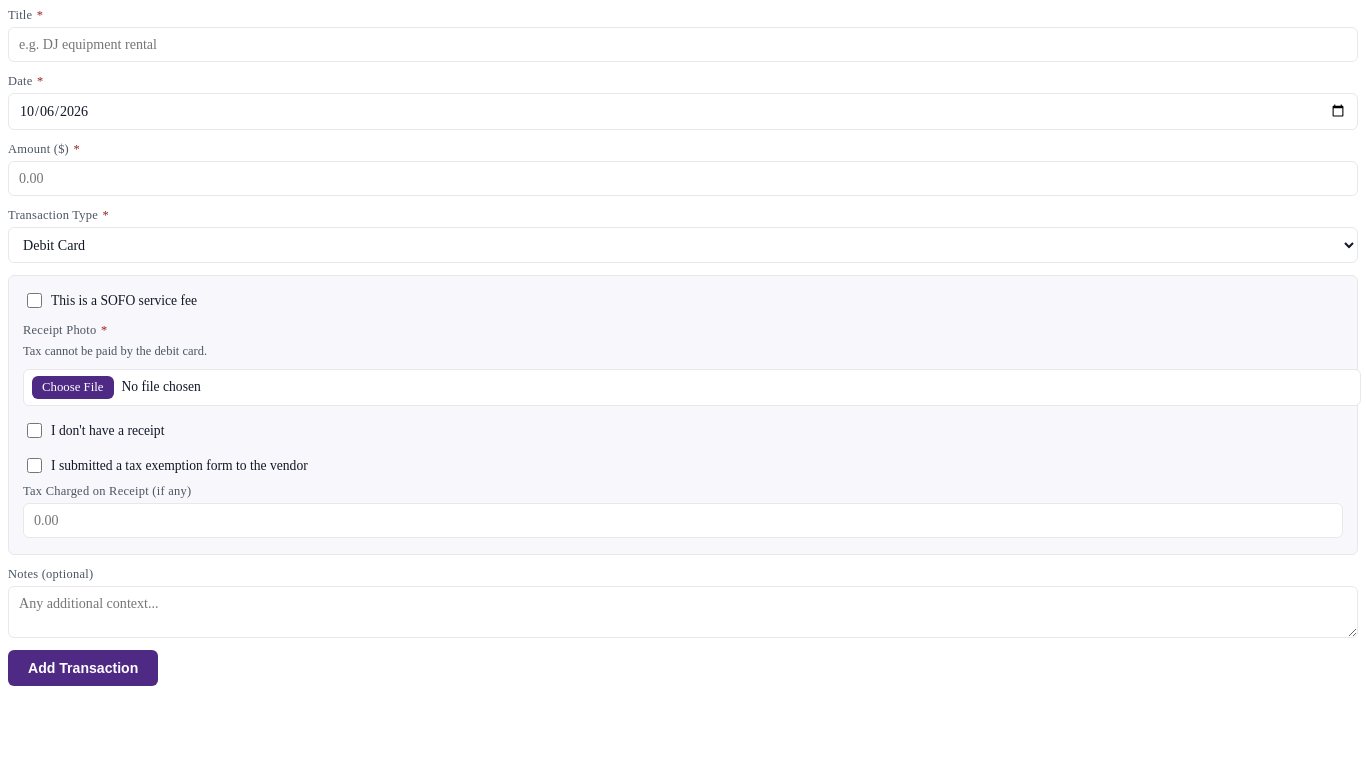
Scenario: AddTransactionForm › shows a validation error and does not submit when the title is missing
In the field labelled "Amount ($) *": (683, 178) [8,161,1358,196], type "10"
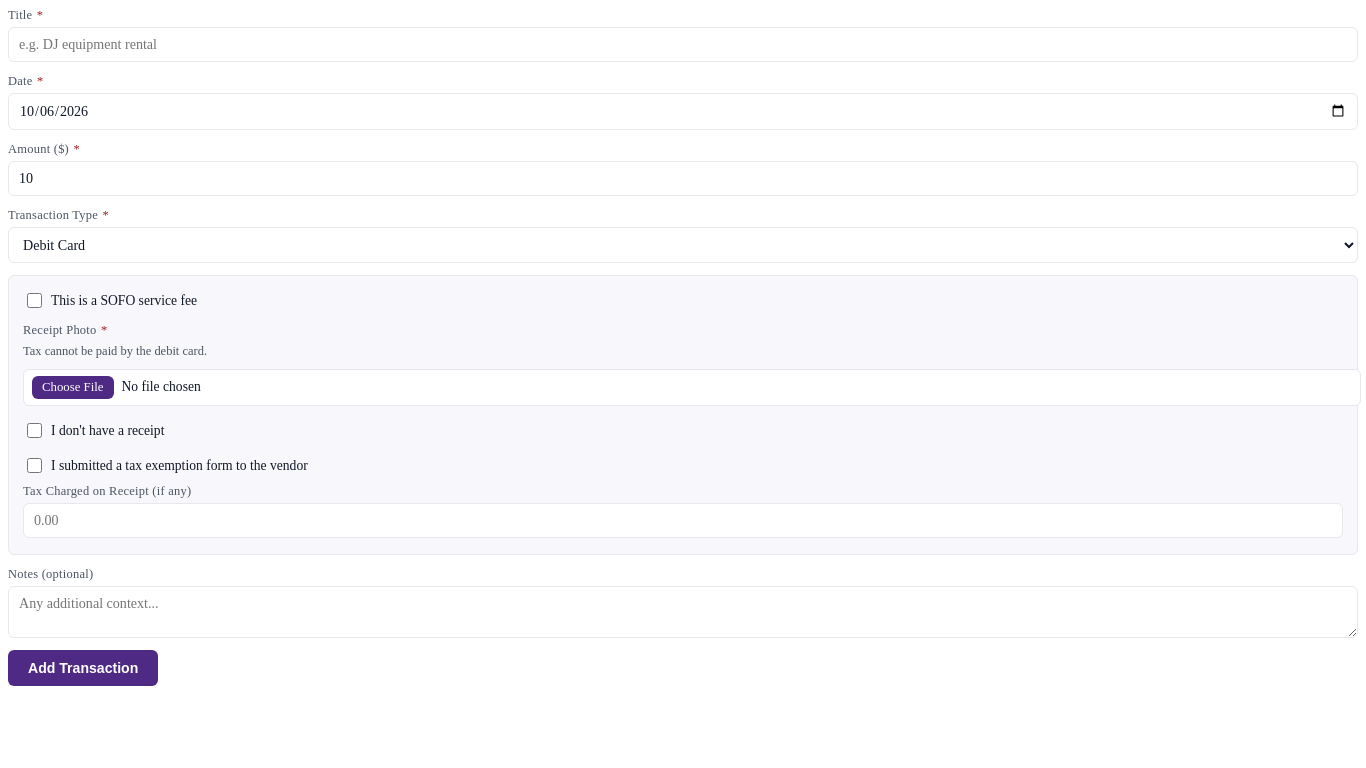
Click the button "Add Transaction": (83, 668) [8,650,158,686]
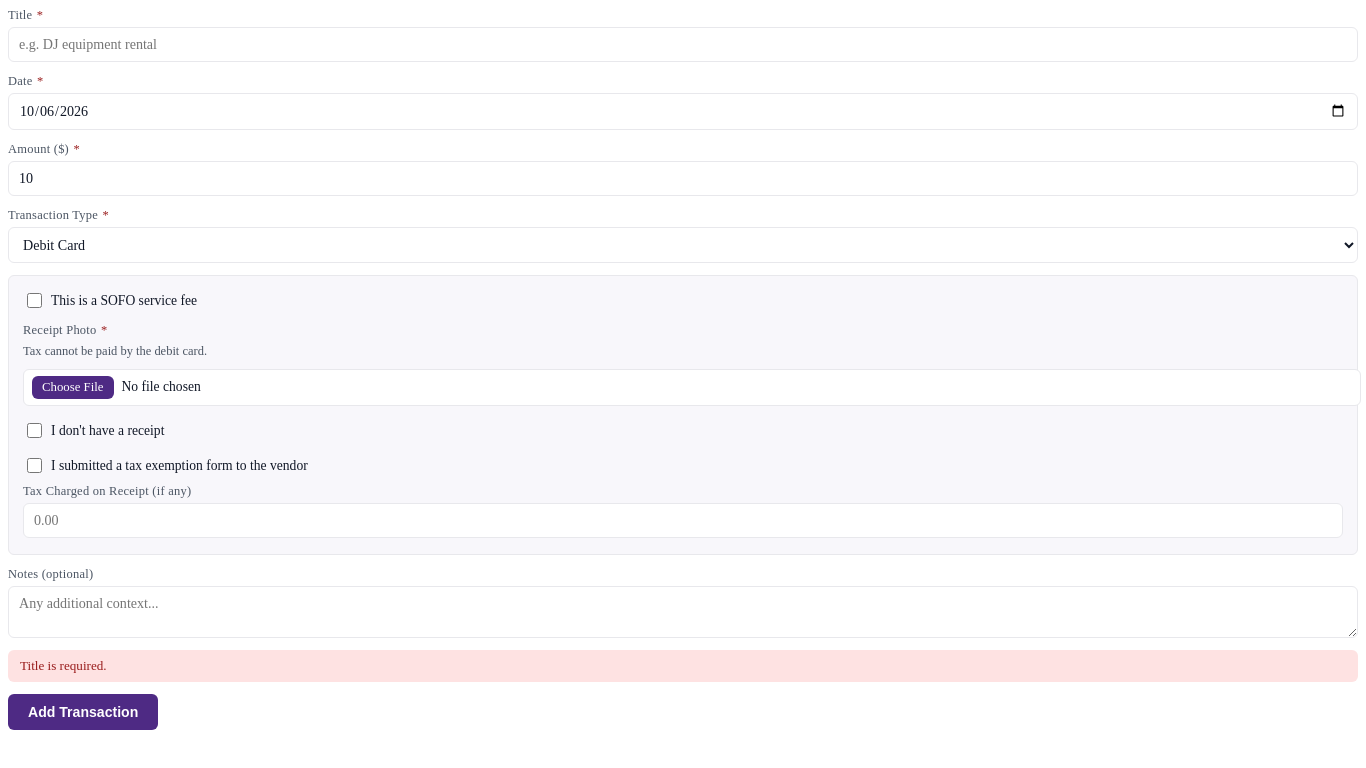
Check: the message reads "Title is required.", box [20,658,106,673]
